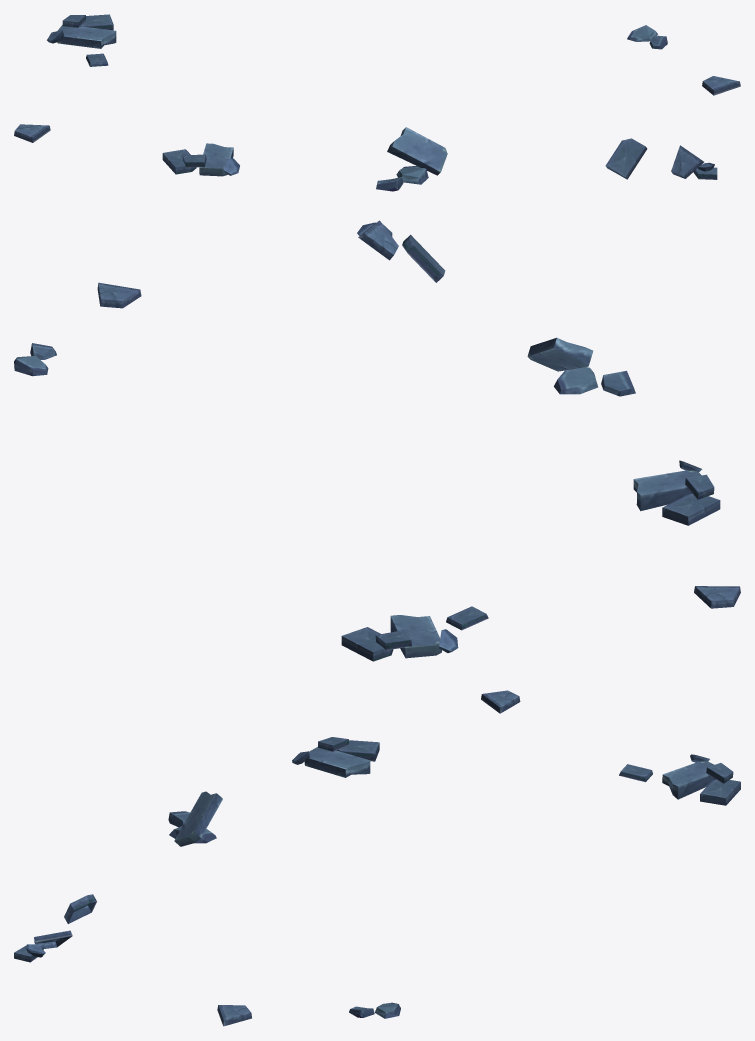
The model's file is Area11_23.fbx.
The picture shows the model from 3 angles, top to bottom: view 1: azimuth 30°, elevation 25°; view 2: azimuth 150°, elevation 25°; view 3: azimuth 270°, elevation 25°; orthographic projection. The views are drawn at different scales.
Visible parts, largest first — view 1: Area11_23; view 2: Area11_23; view 3: Area11_23.
Part boxes in pixels (<box>): Area11_23: <box>14,14,740,191</box>; Area11_23: <box>14,220,740,661</box>; Area11_23: <box>14,690,740,1026</box>.
Size of the model in its own units: 3713 by 275 by 3490.
1 material, 1 textured.
